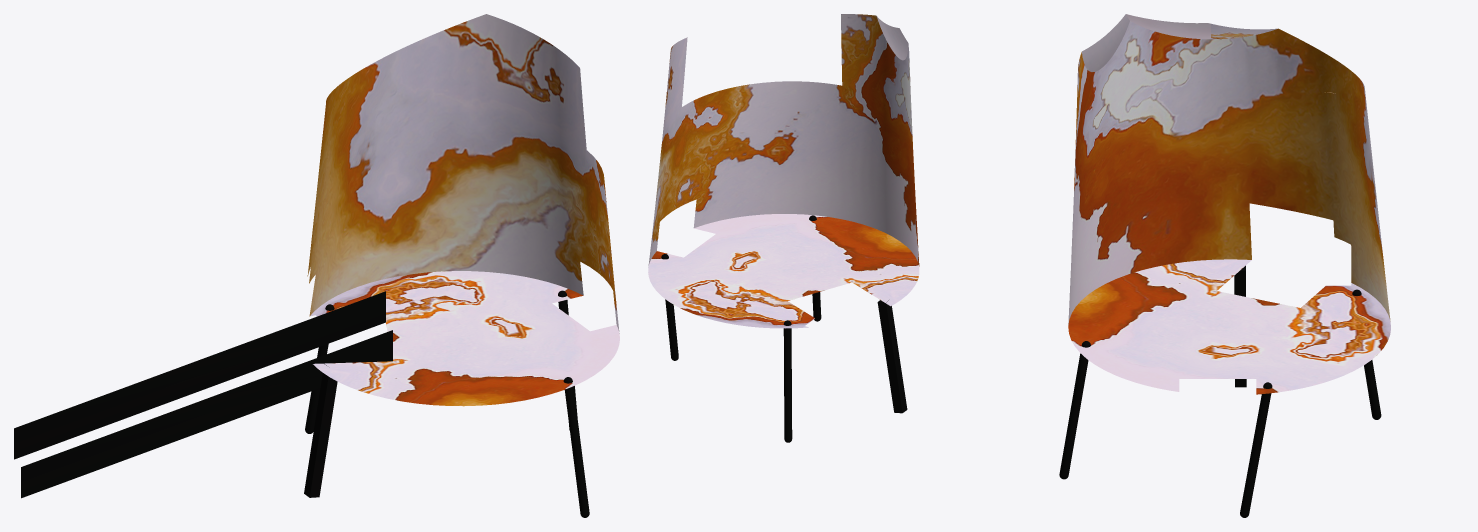
3 renders of one model, left to right at view 1: azimuth 30°, elevation 25°; view 2: azimuth 150°, elevation 25°; view 3: azimuth 270°, elevation 25°, orthographic. The views are drawn at different scales.
Visible parts, largest first — view 1: Solids, Railing, Legs; view 2: Solids, Legs; view 3: Solids, Legs.
Boxes of the visible parts, bbox=[...] form: Solids: bbox=[307, 14, 619, 406]; Railing: bbox=[14, 291, 392, 498]; Legs: bbox=[304, 290, 589, 517]; Solids: bbox=[648, 14, 919, 328]; Legs: bbox=[661, 215, 907, 442]; Solids: bbox=[1068, 14, 1390, 394]; Legs: bbox=[1059, 265, 1381, 517].
Size of what is drawn, in the model's own units: 25.16 by 19.13 by 17.39.
2 materials, 2 textured.
